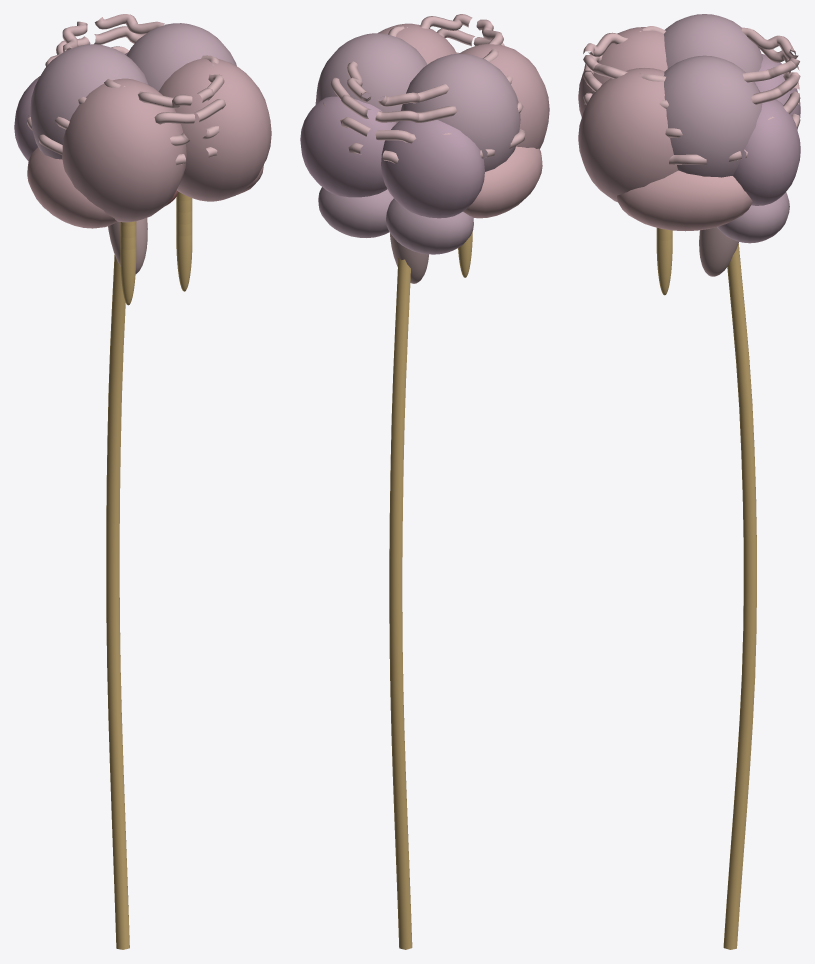
Rendered from brain.glb.
The picture shows the model from 3 angles, left to right: view 1: azimuth 30°, elevation 25°; view 2: azimuth 150°, elevation 25°; view 3: azimuth 270°, elevation 25°; orthographic projection. The views are drawn at different scales.
Visible parts, largest first — view 1: frontal-lobe-246, frontal-lobe-263, brainstem-306, parietal-lobe-247, parietal-lobe-264, temporal-lobe-248, occipital-lobe-249, brainstem-280, dev-marker-cranial-xii, dev-marker-cranial-xi, occipital-lobe-279, frontal-lobe-260; view 2: brainstem-306, occipital-lobe-249, parietal-lobe-247, occipital-lobe-266, parietal-lobe-264, frontal-lobe-246, temporal-lobe-248, cerebellum-250, cerebellum-267, frontal-lobe-263, occipital-lobe-259, brainstem-280 (+3 smaller); view 3: brainstem-306, frontal-lobe-263, parietal-lobe-264, temporal-lobe-265, occipital-lobe-266, parietal-lobe-247, frontal-lobe-246, cerebellum-267, brainstem-280, dev-marker-cranial-xii, occipital-lobe-249, occipital-lobe-262 (+3 smaller).
Part boxes in pixels (x1,y1,x2,y2): frontal-lobe-246: (62,78,186,222); frontal-lobe-263: (158,59,271,201); brainstem-306: (106,254,129,949); parietal-lobe-247: (30,44,148,159); parietal-lobe-264: (126,23,236,91); temporal-lobe-248: (27,147,117,228); occipital-lobe-249: (14,76,39,160); brainstem-280: (108,218,147,273); dev-marker-cranial-xii: (176,233,192,291); dev-marker-cranial-xi: (120,247,136,305); occipital-lobe-279: (94,14,165,34); frontal-lobe-260: (124,85,192,108); brainstem-306: (389,258,412,949); occipital-lobe-249: (381,120,484,218); parietal-lobe-247: (401,53,520,171); occipital-lobe-266: (300,96,396,197); parietal-lobe-264: (315,33,427,123); frontal-lobe-246: (459,43,549,148); temporal-lobe-248: (463,146,542,218); cerebellum-250: (386,198,473,254); cerebellum-267: (318,187,393,237); frontal-lobe-263: (378,23,456,64); occipital-lobe-259: (375,106,456,122); brainstem-280: (390,233,428,283); brainstem-306: (723,243,756,949); frontal-lobe-263: (578,68,678,202); parietal-lobe-264: (664,55,762,177); temporal-lobe-265: (616,170,752,231); occipital-lobe-266: (733,99,800,205); parietal-lobe-247: (664,14,763,72); frontal-lobe-246: (578,27,667,117); cerebellum-267: (717,192,789,243); brainstem-280: (699,227,738,276); dev-marker-cranial-xii: (656,238,672,295); occipital-lobe-249: (755,54,800,129); occipital-lobe-262: (741,27,798,58).
Bounding box in the file's own units: 0.746 × 3.12 × 0.695.
